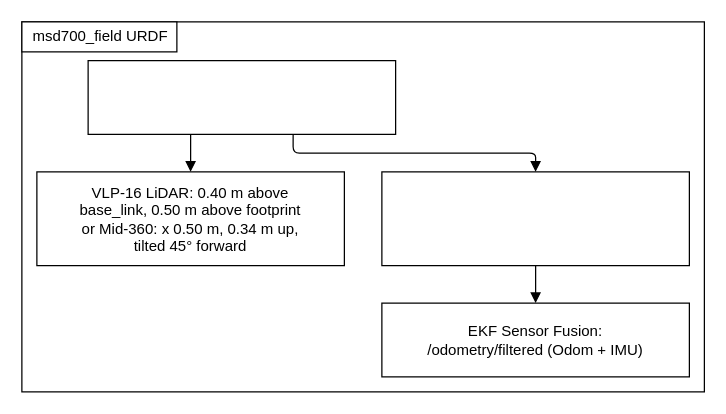
This 726x414 diagram has some shape labels left out. Each missing label, with the centre of its shape:
4 Drive Wheels: x ±0.30 m, y ±0.30 m Radius 0.10 m, Separation 0.60 m: [535,218]
Main Chassis Box: 0.90 x 0.70 x 0.25 m (Mass: 150 kg): [241,96]
